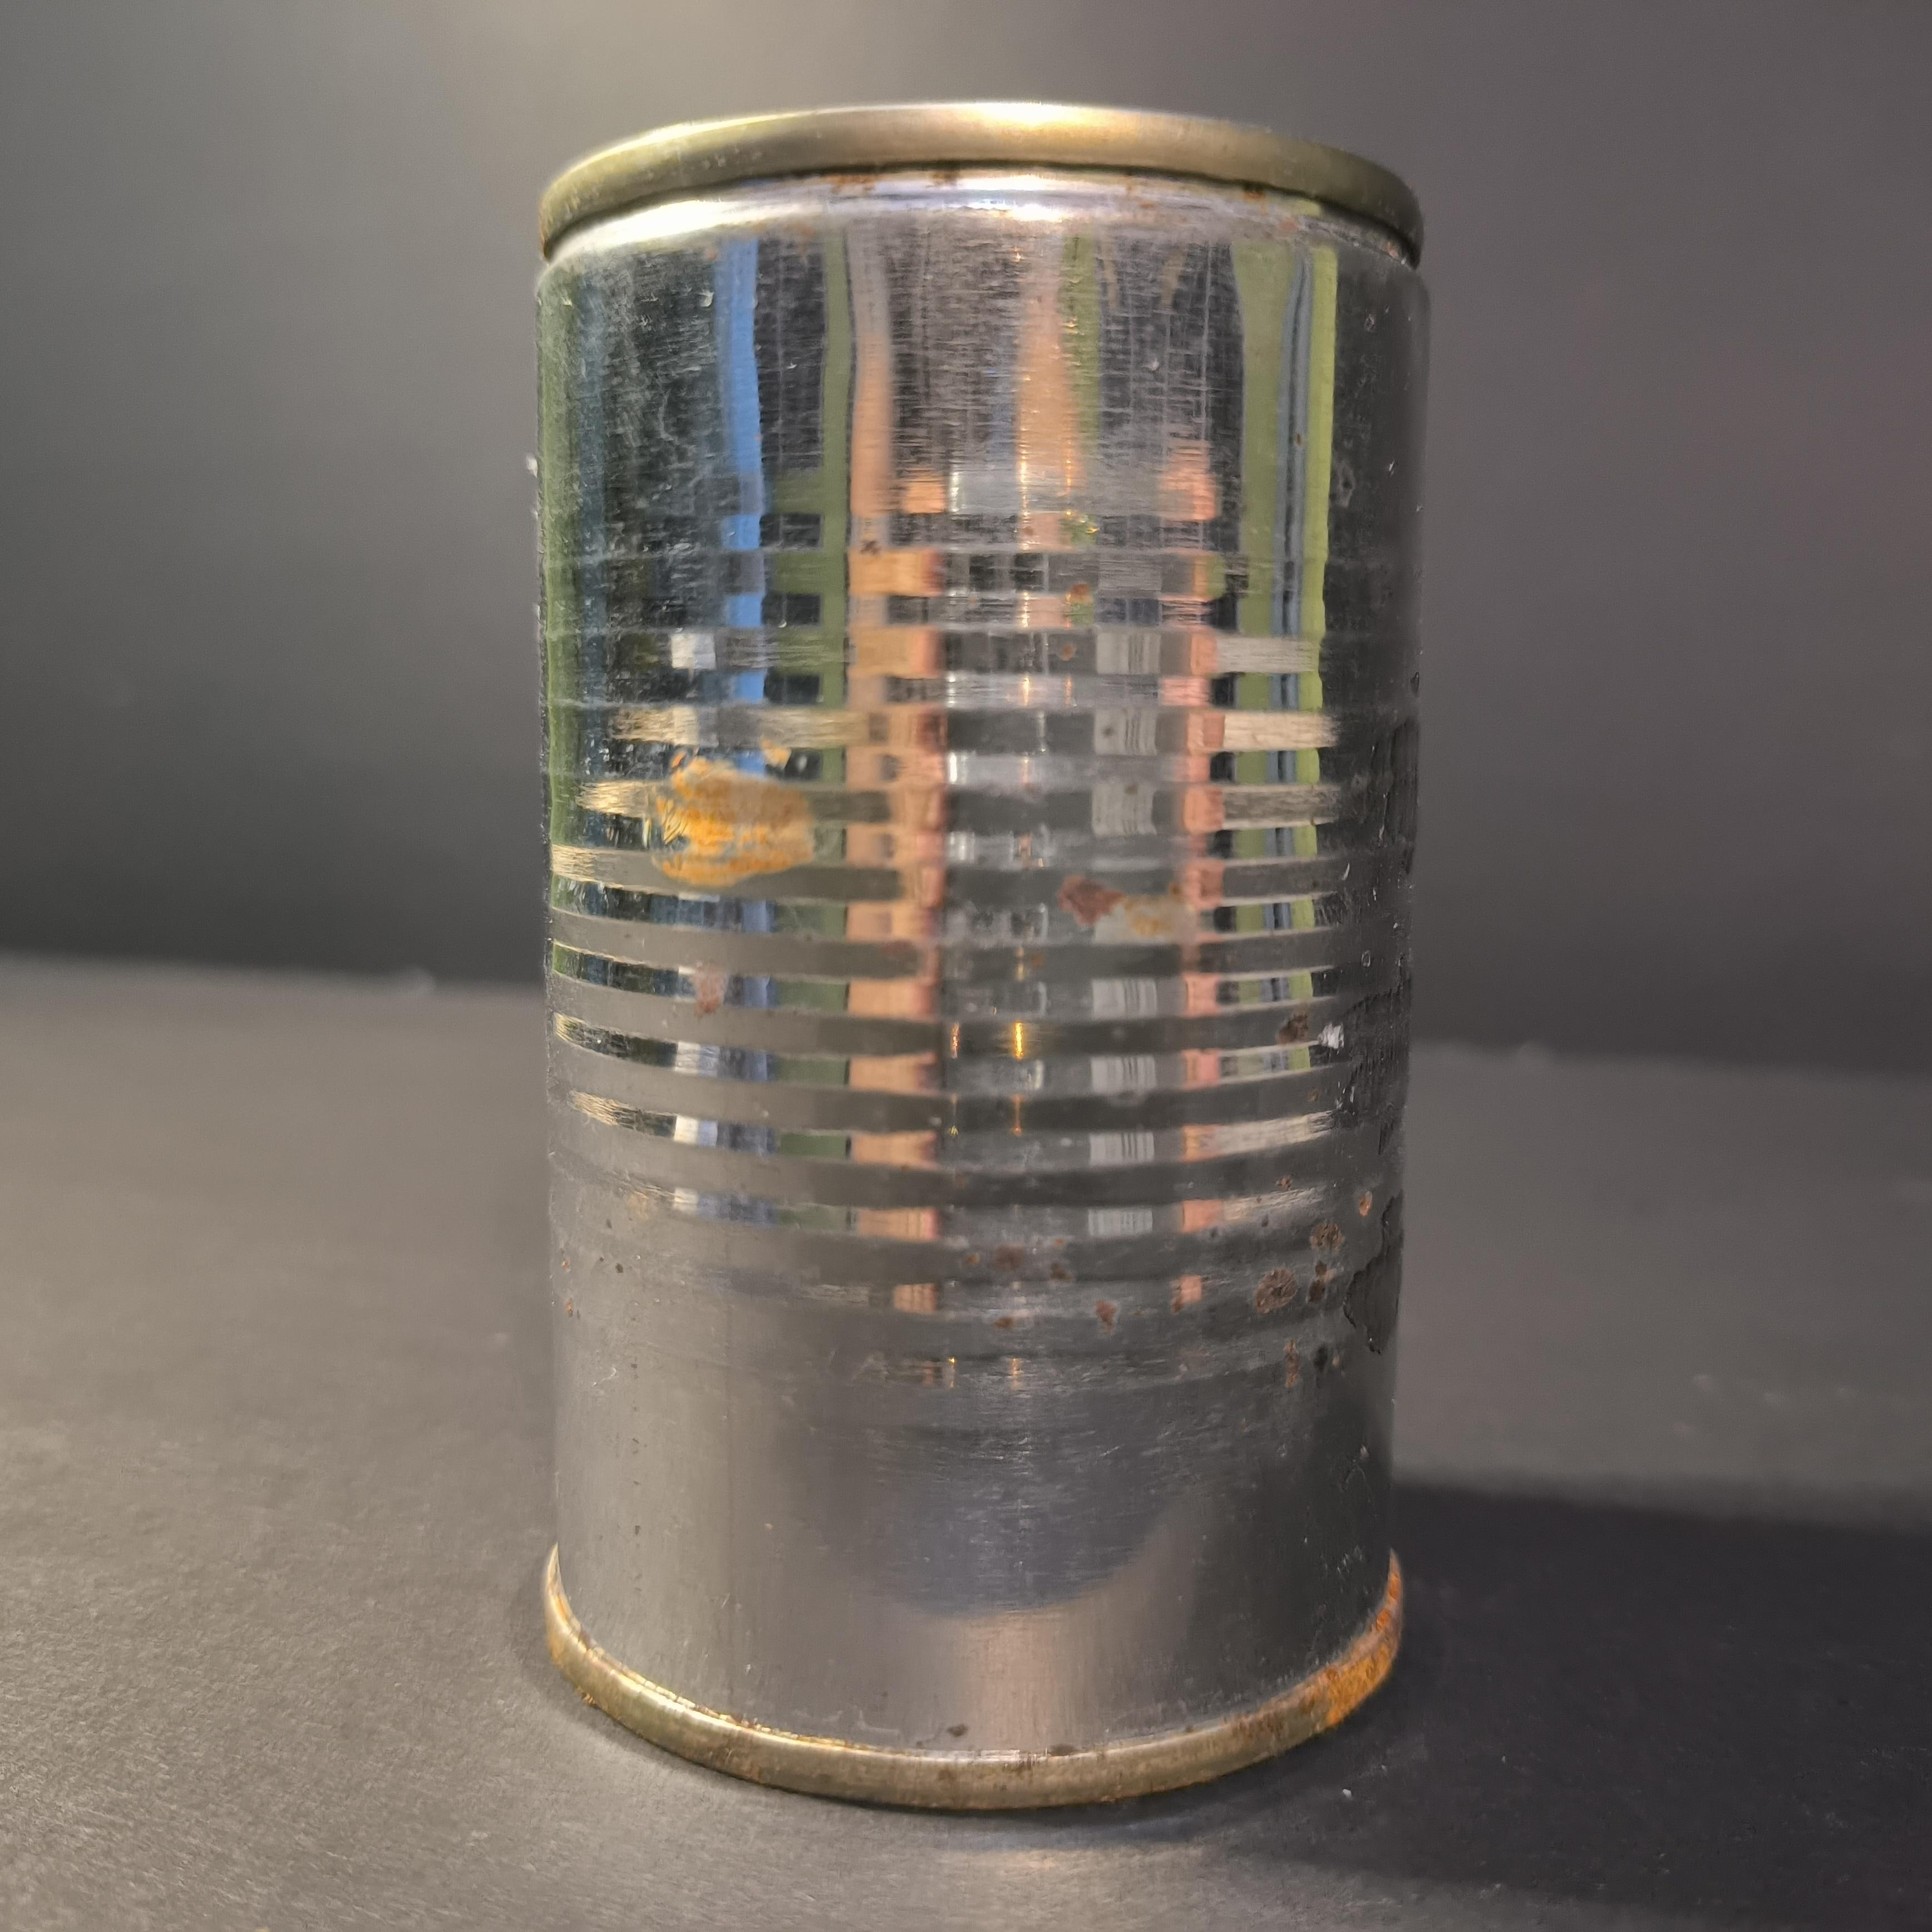Rusted: (520, 73, 1428, 1819)
